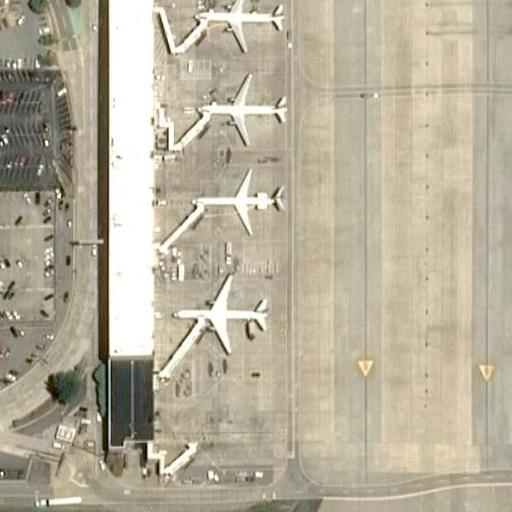Aircraft: (168, 273, 271, 355), (184, 162, 288, 239), (197, 70, 287, 146), (199, 0, 288, 48)
